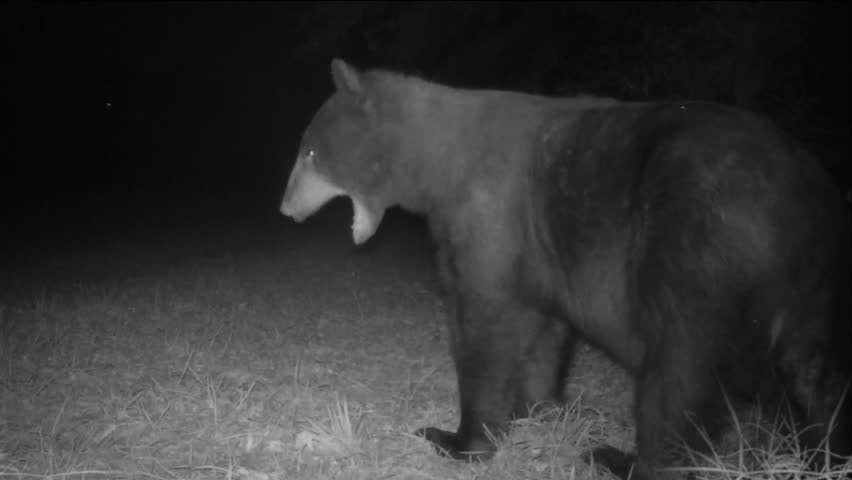bear: (248, 43, 852, 480)
